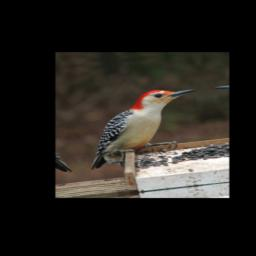Woodpecker: (72, 85, 214, 172)
